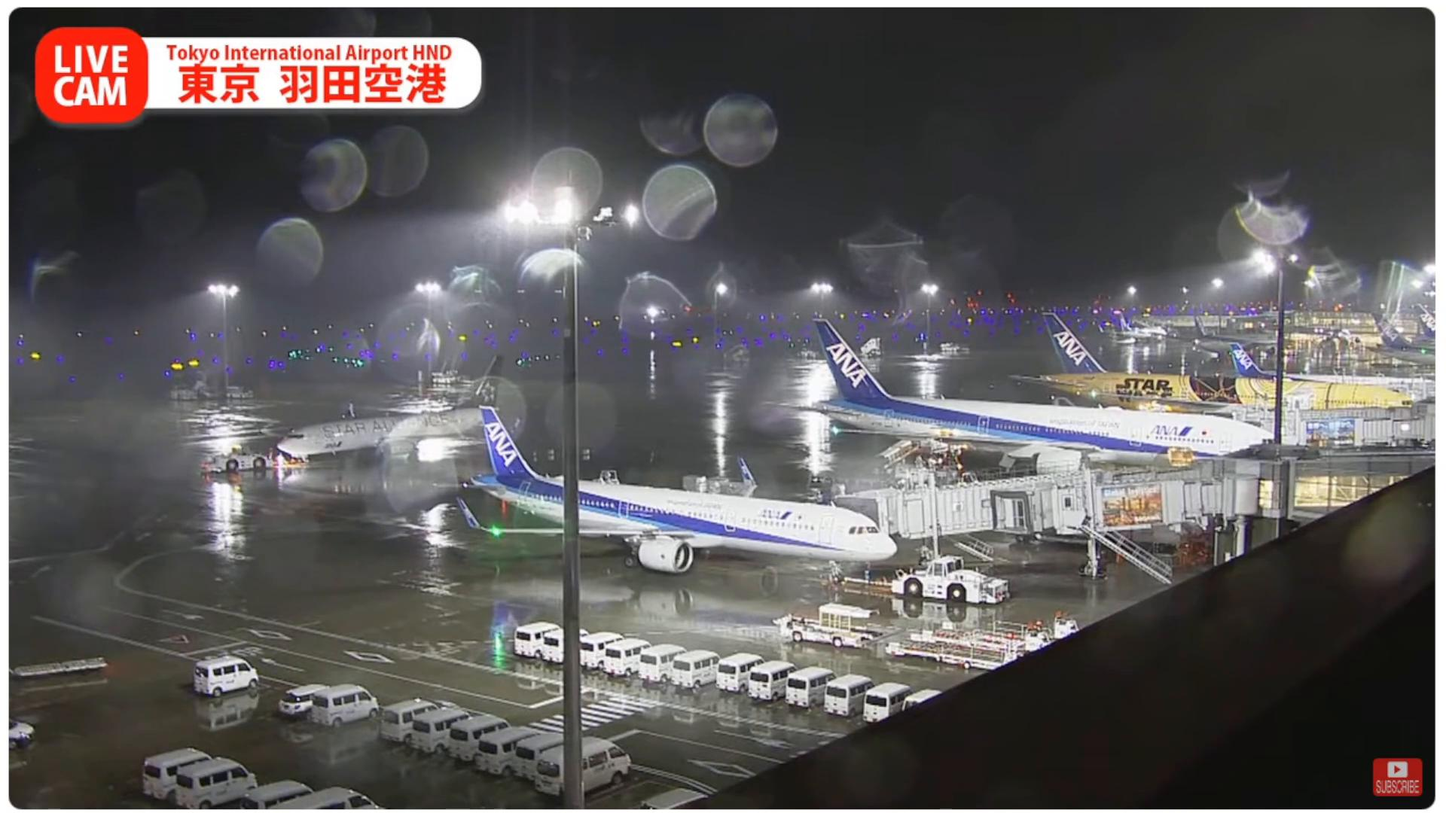APS: (888, 552, 1008, 605)
Aerobridge: (839, 461, 1195, 539), (988, 472, 1227, 537)
Airplane: (461, 406, 899, 585)
JCPL: (911, 618, 1081, 655), (884, 634, 1027, 672)
Skyloader: (769, 601, 886, 648)
Window: (1291, 475, 1415, 508)
